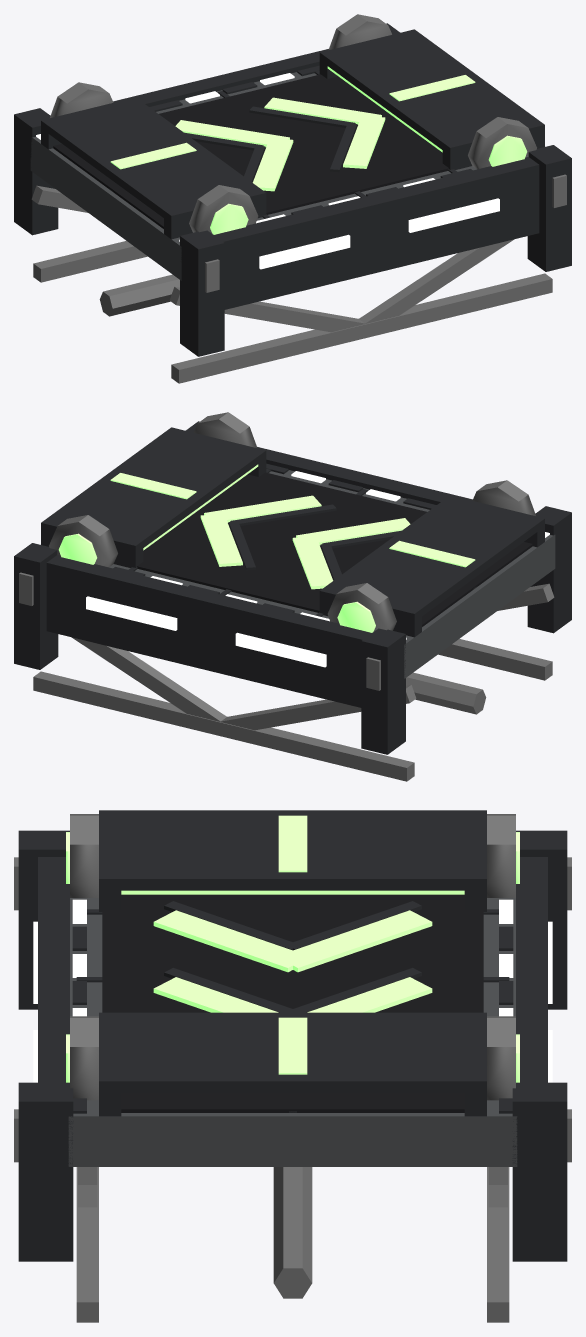
File: Deck_Conveyor_v3_4.glb
The picture shows the model from 3 angles, top to bottom: view 1: azimuth 30°, elevation 25°; view 2: azimuth 150°, elevation 25°; view 3: azimuth 270°, elevation 25°; orthographic projection. The views are drawn at different scales.
Parts seen in each view (by area): view 1: Deck_Conveyor_v3_4, Treads; view 2: Deck_Conveyor_v3_4, Treads; view 3: Deck_Conveyor_v3_4, Treads.
Part boxes in pixels (box(x1,y1,x2,y2)): Deck_Conveyor_v3_4: box(14, 14, 571, 383); Treads: box(175, 97, 385, 191); Deck_Conveyor_v3_4: box(14, 412, 571, 781); Treads: box(200, 495, 410, 589); Deck_Conveyor_v3_4: box(14, 810, 571, 1322); Treads: box(153, 901, 432, 1012).
Size of the model in its own units: 4.05 by 1.86 by 3.48.
